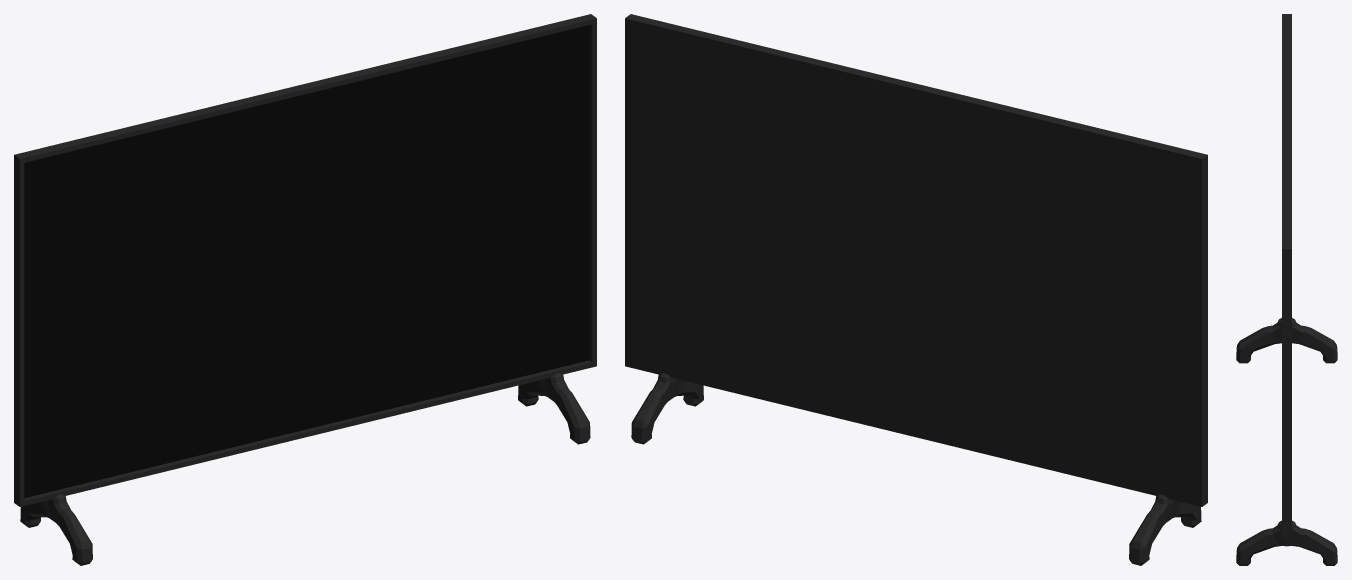
3 renders of one model, left to right at view 1: azimuth 30°, elevation 25°; view 2: azimuth 150°, elevation 25°; view 3: azimuth 270°, elevation 25°, orthographic. The views are drawn at different scales.
Visible parts, largest first — view 1: TV; view 2: TV; view 3: TV.
Boxes of the visible parts, x1,y1,x2,y2 form: TV: (14,14,596,565); TV: (625,14,1207,565); TV: (1236,14,1337,565).
Size of the model in its own units: 446 by 293 by 81.39.
